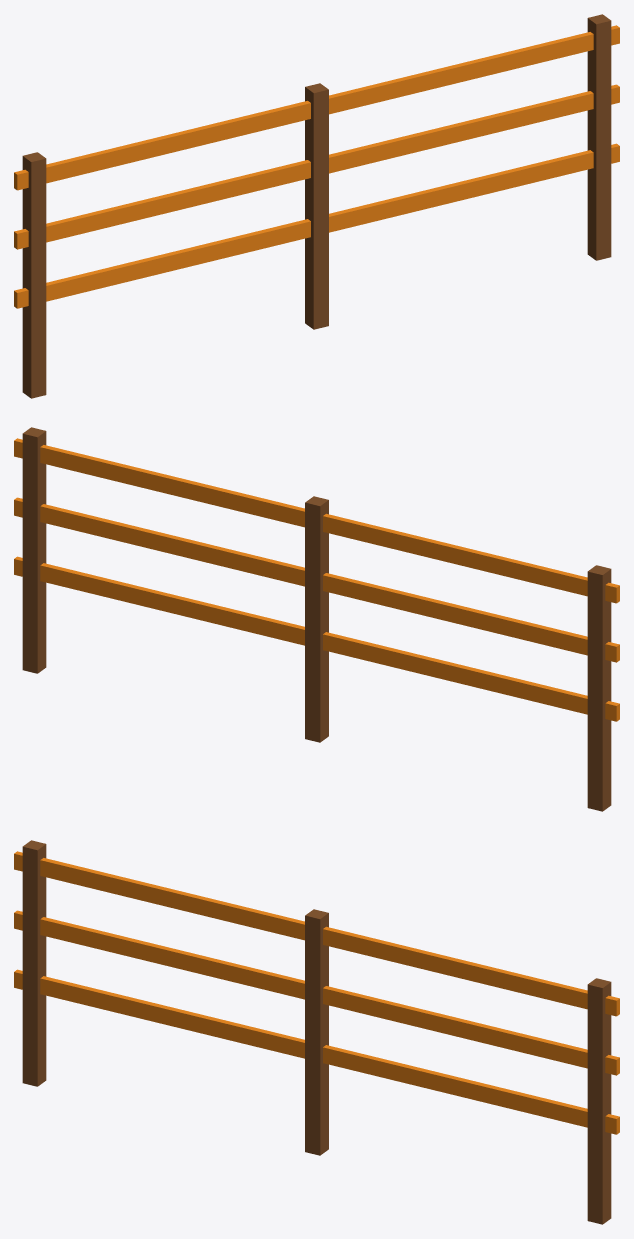
File: snow_fence.glb
The picture shows the model from 3 angles, top to bottom: view 1: azimuth 30°, elevation 25°; view 2: azimuth 150°, elevation 25°; view 3: azimuth 330°, elevation 25°; orthographic projection.
Visible parts, largest first — view 1: snow_fence; view 2: snow_fence; view 3: snow_fence.
Boxes of the visible parts, <box> form: snow_fence: <box>14,14,619,398</box>; snow_fence: <box>14,427,619,811</box>; snow_fence: <box>14,840,619,1224</box>.
Bounding box in the file's own units: 3.2 × 1.2 × 0.08.
